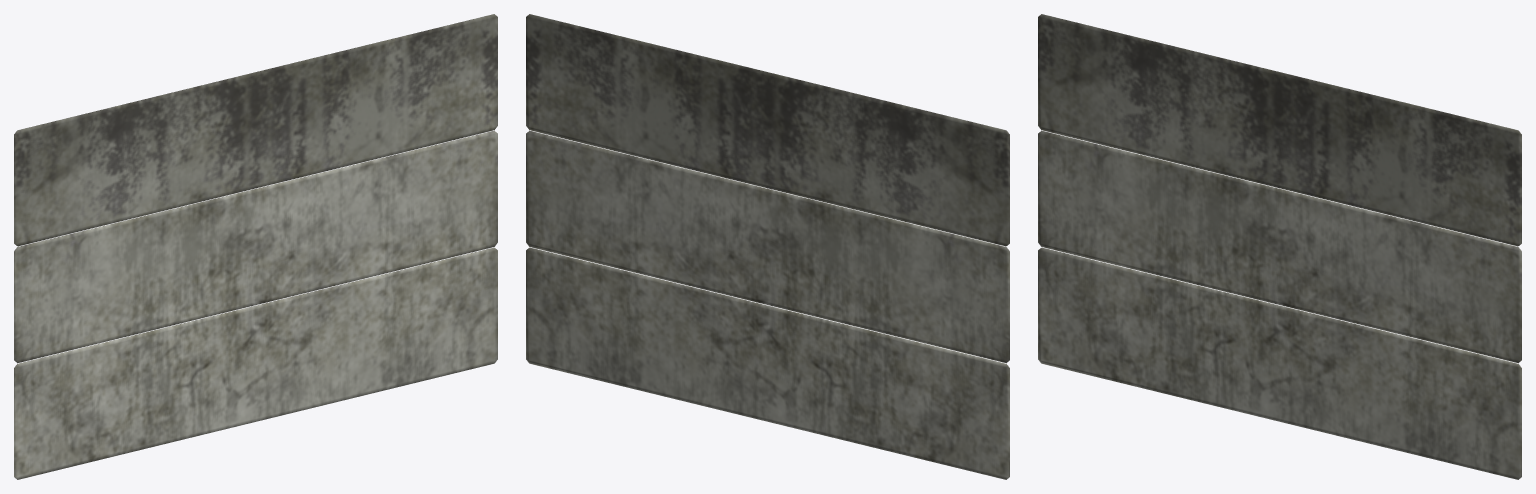
File: pared_new.fbx
3 renders of one model, left to right at view 1: azimuth 30°, elevation 25°; view 2: azimuth 150°, elevation 25°; view 3: azimuth 330°, elevation 25°, orthographic.
Visible parts, largest first — view 1: Wall; view 2: Wall; view 3: Wall.
Boxes of the visible parts, bbox=[...] form: Wall: bbox=[14, 14, 497, 479]; Wall: bbox=[526, 14, 1009, 479]; Wall: bbox=[1038, 14, 1521, 479].
Size of the model in its own units: 1494 by 1032 by 2.76.
1 material, 1 textured.
